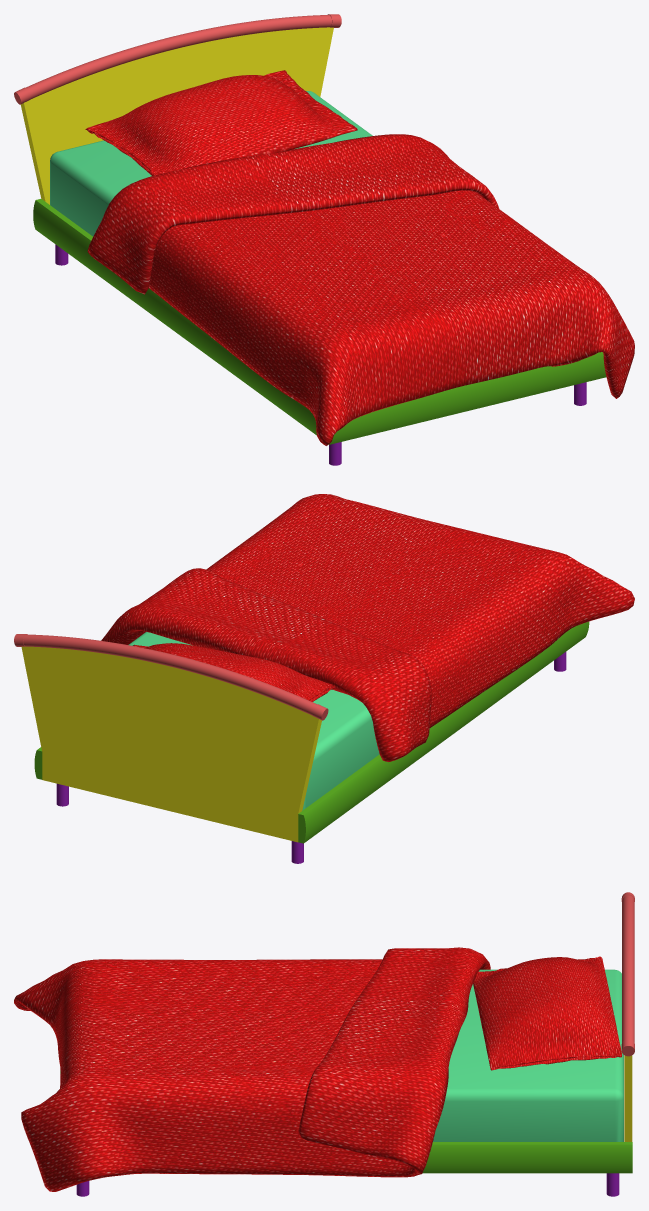
Rendered from room-bed.obj.
3 renders of one model, top to bottom at view 1: azimuth 30°, elevation 25°; view 2: azimuth 150°, elevation 25°; view 3: azimuth 270°, elevation 25°, orthographic. The views are drawn at different scales.
Parts seen in each view (by area): view 1: obj_05, Line11, obj_01, Line85, Line83, obj_00, Cylinder09; view 2: obj_05, Line11, Line83, obj_00, Cylinder09, obj_01; view 3: obj_05, obj_00, obj_01, Line86, Cylinder09, Line11.
Boxes of the visible parts, x1,y1,x2,y2 form: obj_05: (87,134,634,445); Line11: (20,27,333,204); obj_01: (85,70,357,175); Line85: (329,352,606,444); Line83: (33,199,316,435); obj_00: (50,91,372,236); Cylinder09: (25,15,331,98); obj_05: (101,494,634,761); Line11: (21,646,321,842); Line83: (298,621,589,843); obj_00: (128,632,379,810); Cylinder09: (23,634,317,715); obj_01: (132,643,335,701); obj_05: (14,947,490,1191); obj_00: (433,969,623,1141); obj_01: (473,956,621,1070); Line86: (422,1142,632,1173); Cylinder09: (622,895,634,1042); Line11: (624,1055,632,1141).
Size of the model in its own units: 50.14 by 25.33 by 77.2.
